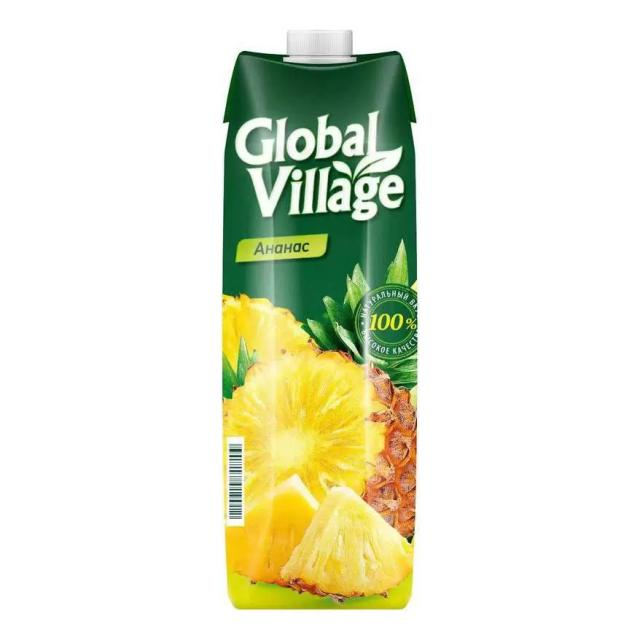Juice Global Village pineapple: (212, 21, 418, 620)
